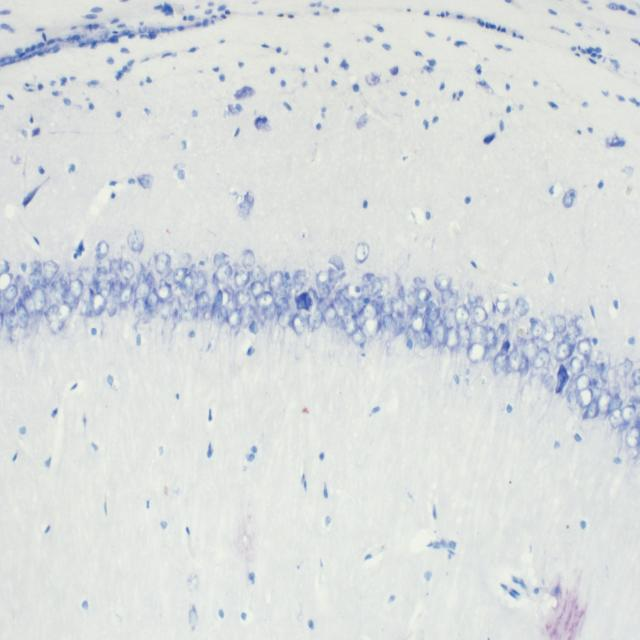neuron: (288, 268, 310, 294), (335, 288, 355, 314), (30, 286, 46, 315), (362, 317, 380, 342), (402, 280, 418, 308), (127, 229, 144, 254), (343, 310, 358, 338), (432, 317, 446, 347), (596, 390, 612, 416), (521, 339, 539, 362), (42, 259, 59, 283), (487, 338, 504, 362), (214, 263, 234, 283), (444, 327, 460, 352), (467, 343, 486, 364), (107, 281, 118, 317), (56, 301, 73, 324), (291, 313, 308, 336), (532, 347, 549, 370), (324, 304, 339, 329), (134, 280, 151, 302), (68, 277, 84, 300), (583, 398, 599, 421), (146, 290, 160, 316), (434, 272, 452, 292), (575, 387, 593, 407), (155, 252, 171, 274), (354, 241, 370, 263), (493, 352, 509, 374), (240, 304, 255, 327), (625, 425, 640, 448), (250, 265, 268, 284), (233, 268, 250, 288), (119, 259, 135, 280), (253, 303, 267, 327), (278, 306, 292, 330), (308, 306, 322, 330), (391, 294, 405, 318), (576, 337, 592, 358), (569, 355, 585, 376), (158, 300, 174, 321), (133, 296, 148, 318), (157, 280, 172, 302), (415, 286, 430, 308), (425, 300, 440, 322), (455, 303, 470, 325), (16, 304, 29, 329), (327, 254, 345, 272), (316, 296, 334, 314), (257, 291, 274, 310), (530, 320, 547, 339), (63, 288, 77, 311), (92, 293, 106, 316), (269, 270, 283, 293), (411, 309, 425, 332), (608, 408, 622, 431), (555, 342, 571, 362), (496, 294, 511, 315), (23, 293, 35, 319), (228, 307, 242, 329), (194, 270, 208, 292), (516, 296, 530, 318), (472, 325, 488, 344), (617, 358, 633, 377), (3, 284, 18, 304), (542, 324, 557, 344), (212, 290, 223, 317), (98, 253, 112, 274), (242, 249, 256, 270), (622, 404, 636, 425), (119, 282, 131, 306), (362, 302, 378, 320), (406, 324, 418, 348), (552, 315, 568, 333), (606, 397, 622, 415), (5, 310, 18, 332), (96, 239, 109, 261), (381, 292, 394, 314), (508, 350, 521, 372), (608, 378, 621, 400), (382, 314, 397, 333), (473, 305, 488, 324), (370, 277, 383, 298), (214, 251, 230, 268), (575, 374, 591, 391), (173, 266, 188, 284), (45, 303, 59, 322), (274, 289, 288, 308), (443, 306, 455, 328), (197, 291, 210, 311), (316, 269, 329, 289), (460, 326, 470, 352), (519, 352, 529, 378), (29, 270, 45, 286), (235, 290, 251, 306), (484, 328, 496, 349), (264, 300, 276, 320), (352, 328, 367, 344), (568, 320, 582, 337), (420, 328, 430, 351), (177, 252, 191, 268), (251, 281, 265, 297), (361, 272, 375, 288), (563, 332, 577, 348), (95, 266, 108, 283), (183, 274, 194, 294), (0, 272, 12, 290), (590, 384, 602, 402), (15, 273, 25, 293), (441, 289, 454, 304), (496, 322, 506, 341), (0, 258, 10, 276), (631, 367, 640, 386), (588, 360, 599, 375), (110, 257, 118, 277), (137, 269, 147, 285), (599, 366, 609, 382), (146, 271, 155, 288), (96, 278, 106, 293), (30, 260, 42, 272), (220, 304, 228, 322), (249, 320, 259, 334), (424, 317, 433, 332), (86, 301, 93, 317)
